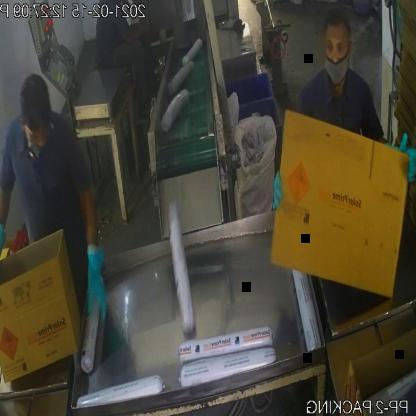glove: (79, 231, 119, 333), (0, 212, 12, 298)
no_glove: (115, 23, 153, 52)
